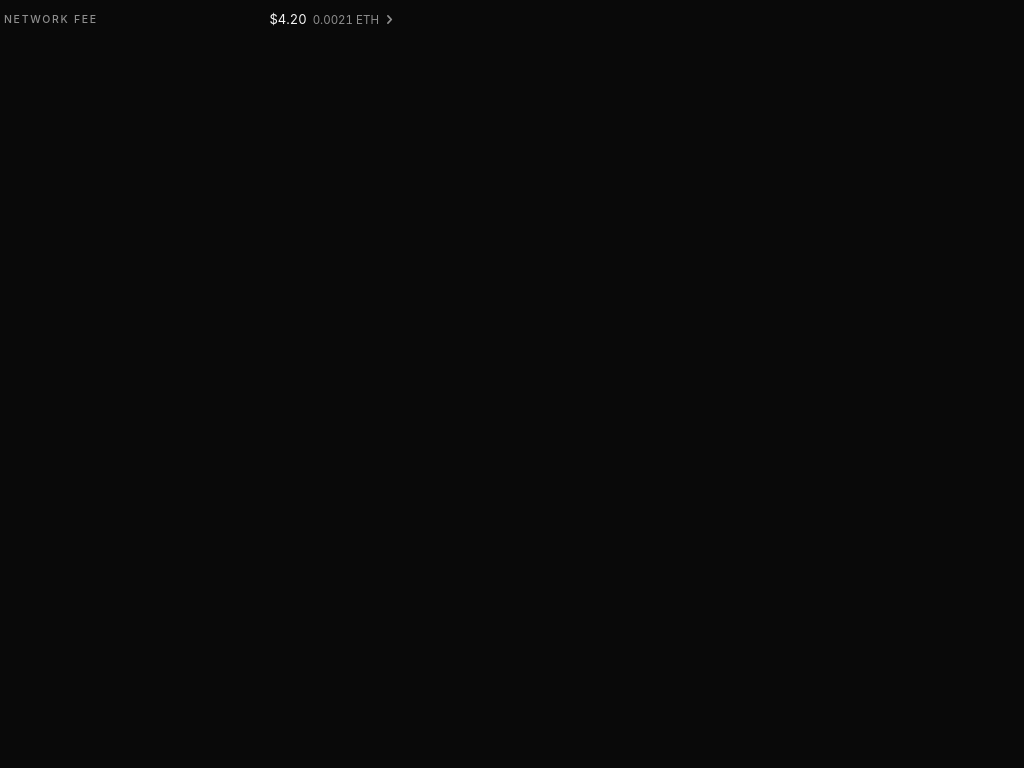
Test: Network fee row › opens the presets and applies one at once
Later steps or results of the test are not shown.
Click the button with aria-label "Edit network fee" at [51, 20], box [0,0,400,40]
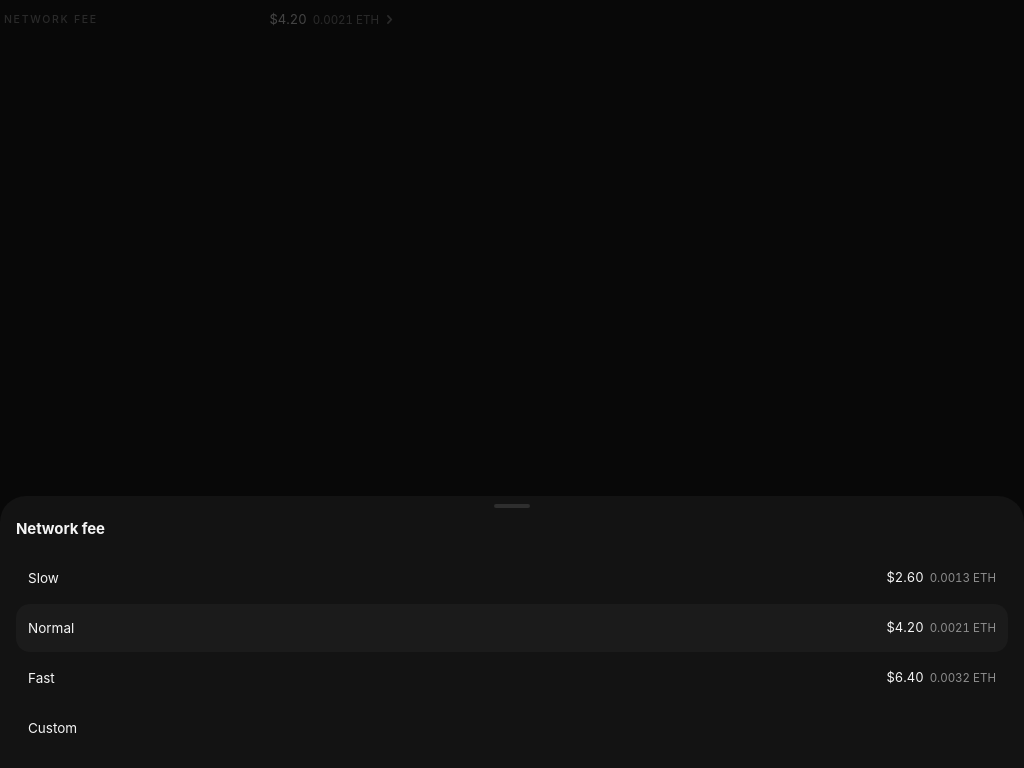
Expected: the text "Slow" is shown, [28,568,59,588]
Expected: the text "Custom" is shown, [28,718,77,738]
